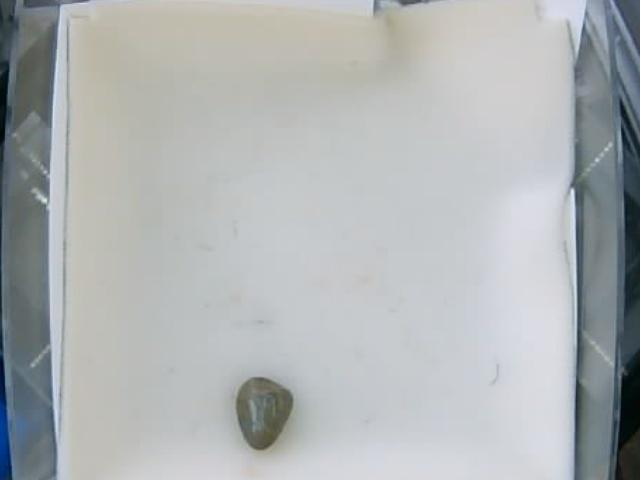Pebble: (236, 375, 294, 450)
